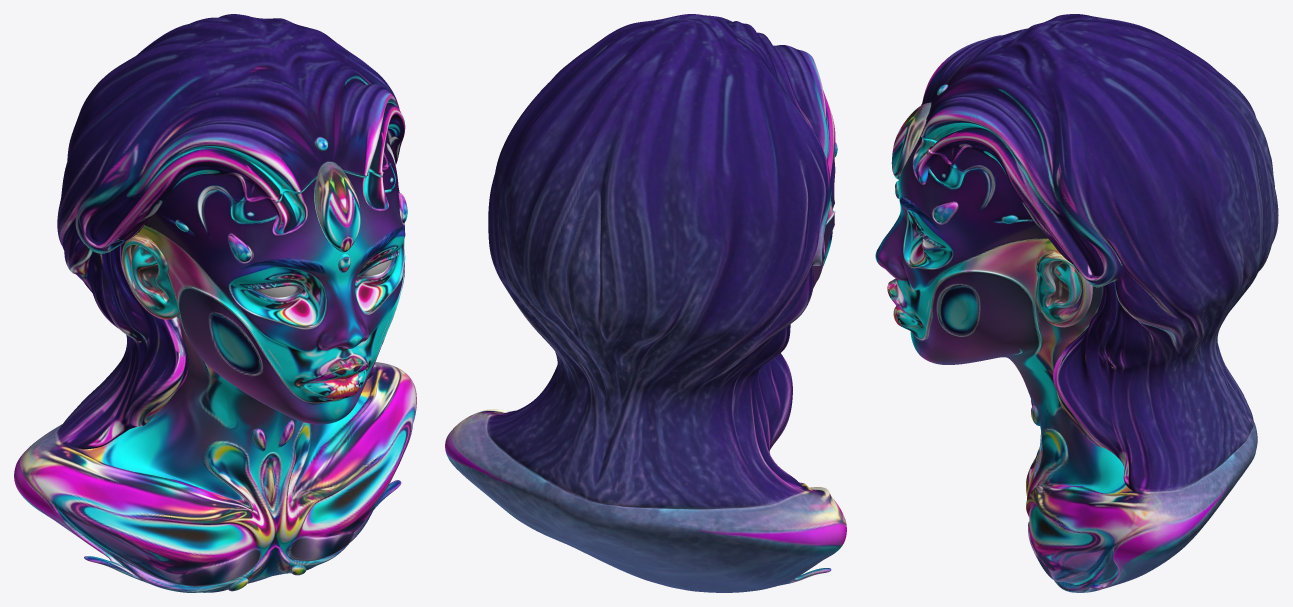
Rendered from Meshy_AI_model_optimized.glb.
3 views of the same model, side by side, from view 1: azimuth 30°, elevation 25°; view 2: azimuth 150°, elevation 25°; view 3: azimuth 270°, elevation 25° (orthographic). The views are drawn at different scales.
Bounding box in the file's own units: 1.42 × 1.9 × 1.28.
1 material, 1 textured.
